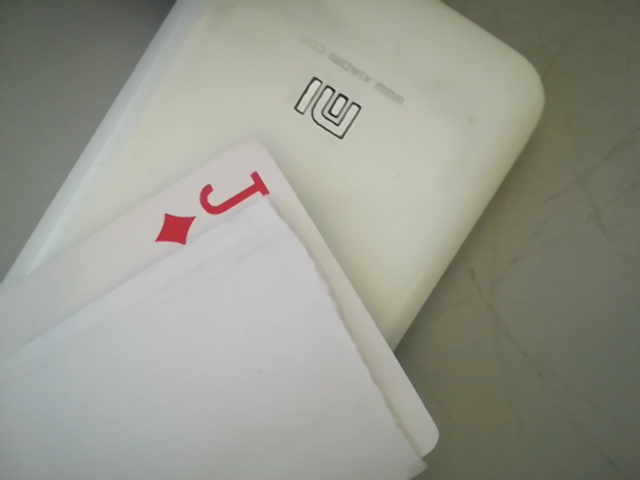fk j: (126, 168, 282, 251)
